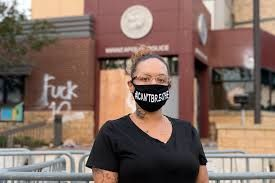with-mask: (127, 54, 175, 112)
